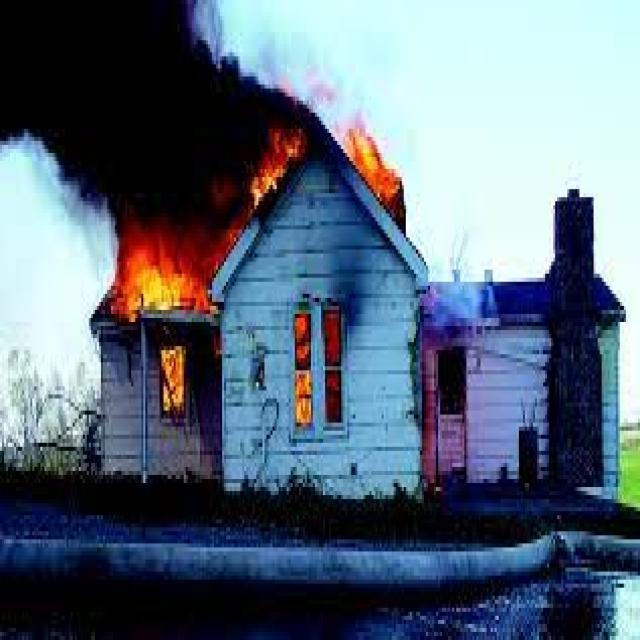Fire: (114, 220, 214, 314), (290, 307, 339, 427), (340, 100, 398, 196), (247, 128, 298, 212), (160, 348, 187, 421)
Smoke: (0, 0, 246, 216)
